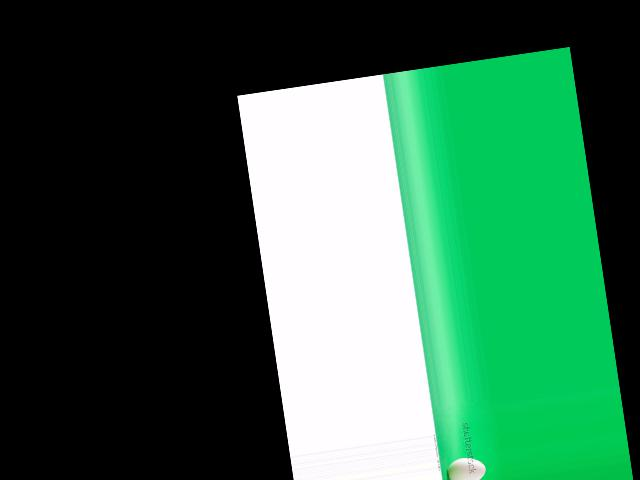egg: (445, 455, 487, 480)
